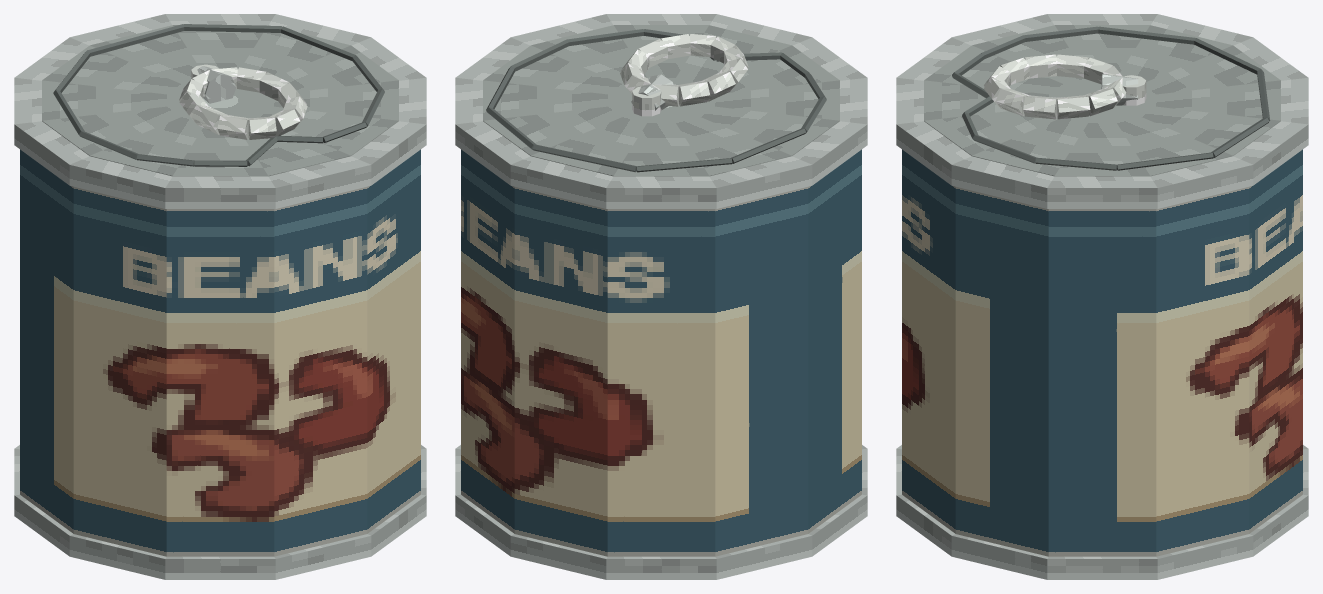
File: can_beans.glb
3 views of the same model, side by side, from view 1: azimuth 30°, elevation 25°; view 2: azimuth 150°, elevation 25°; view 3: azimuth 270°, elevation 25° (orthographic).
Parts seen in each view (by area): view 1: block_illustrated wraparound can label, block_recessed easy-open panel, block_rolled steel top, block_rolled steel base, block_pull tab hinge, block_scored lid opening 3, block_scored lid opening 4, block_raised metal pull ring 4, block_raised metal pull ring 3, block_raised metal pull ring 5, block_scored lid opening 5, block_raised metal pull ring 10; view 2: block_illustrated wraparound can label, block_recessed easy-open panel, block_rolled steel top, block_rolled steel base, block_scored lid opening 3, block_raised metal pull ring 7, block_pull tab rivet, block_scored lid opening 2, block_raised metal pull ring 6, block_scored lid opening 7, block_scored lid opening 1, block_raised metal pull ring 1; view 3: block_illustrated wraparound can label, block_recessed easy-open panel, block_rolled steel top, block_rolled steel base, block_scored lid opening 1, block_raised metal pull ring 0, block_raised metal pull ring 11, block_scored lid opening 5, block_raised metal pull ring 5, block_raised metal pull ring 6, block_raised metal pull ring 1, block_raised metal pull ring 10 (+3 smaller).
Boxes of the visible parts, box(x1,y1,x2,y2) form: block_illustrated wraparound can label: box(20, 149, 420, 556); block_recessed easy-open panel: box(42, 25, 398, 176); block_rolled steel top: box(14, 14, 426, 208); block_rolled steel base: box(14, 445, 426, 579); block_pull tab hinge: box(197, 66, 236, 103); block_scored lid opening 3: box(87, 24, 184, 56); block_scored lid opening 4: box(183, 24, 282, 32); block_raised metal pull ring 4: box(217, 114, 249, 139); block_raised metal pull ring 3: box(248, 116, 276, 139); block_raised metal pull ring 5: box(191, 105, 226, 134); block_scored lid opening 5: box(281, 26, 355, 60); block_raised metal pull ring 10: box(237, 67, 266, 92); block_illustrated wraparound can label: box(461, 149, 861, 556); block_recessed easy-open panel: box(483, 25, 839, 176); block_rolled steel top: box(455, 14, 867, 208); block_rolled steel base: box(455, 445, 867, 579); block_scored lid opening 3: box(533, 144, 636, 172); block_raised metal pull ring 7: box(678, 81, 710, 106); block_pull tab rivet: box(632, 86, 661, 116); block_scored lid opening 2: box(636, 158, 732, 172); block_raised metal pull ring 6: box(701, 72, 735, 101); block_scored lid opening 7: box(567, 29, 643, 45); block_scored lid opening 1: box(730, 128, 806, 163); block_raised metal pull ring 1: box(661, 34, 690, 58); block_illustrated wraparound can label: box(902, 149, 1302, 556); block_recessed easy-open panel: box(924, 25, 1280, 176); block_rolled steel top: box(896, 14, 1308, 208); block_rolled steel base: box(896, 445, 1308, 579); block_scored lid opening 1: box(1098, 26, 1196, 44); block_raised metal pull ring 0: box(1023, 95, 1056, 119); block_raised metal pull ring 11: box(1057, 95, 1090, 119); block_scored lid opening 5: box(1117, 152, 1213, 170); block_raised metal pull ring 5: box(1024, 54, 1056, 78); block_raised metal pull ring 6: box(1057, 54, 1088, 78); block_raised metal pull ring 1: box(996, 88, 1028, 116); block_raised metal pull ring 10: box(1084, 88, 1117, 116).
Bounding box in the file's own units: 0.0715 × 0.0801 × 0.0715.
1 material, 1 textured.
